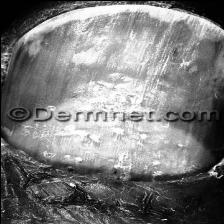Toxin: (34, 4, 224, 88)
